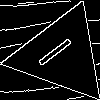I: (36, 29, 82, 69)
